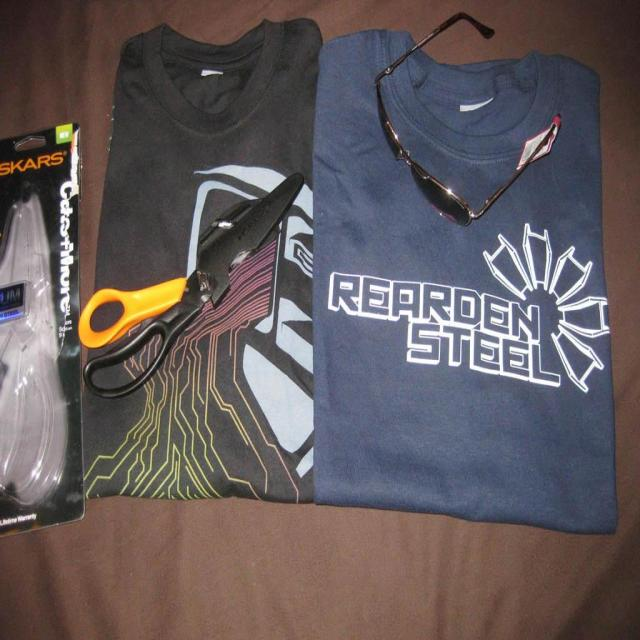scissor: (78, 171, 304, 400)
